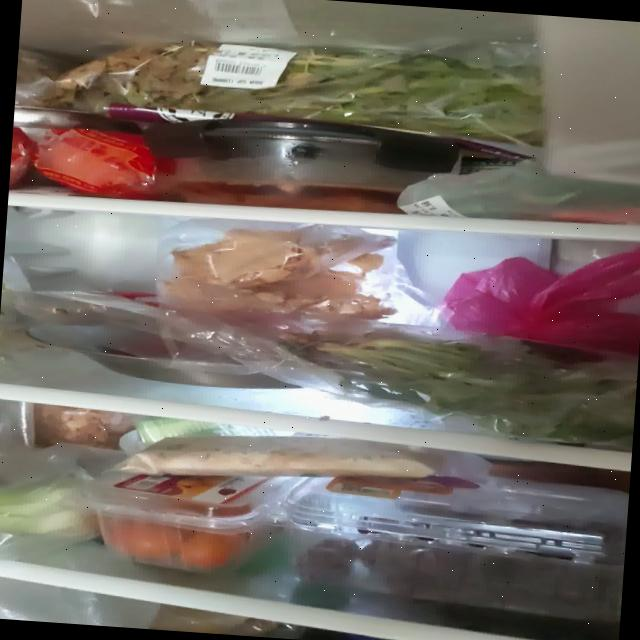grape: (293, 494, 626, 610)
leafy_greens: (52, 25, 552, 146), (313, 325, 639, 446)
orange: (34, 125, 158, 200)
tempeh: (121, 424, 438, 494)
unknown_bag: (441, 229, 640, 352)
